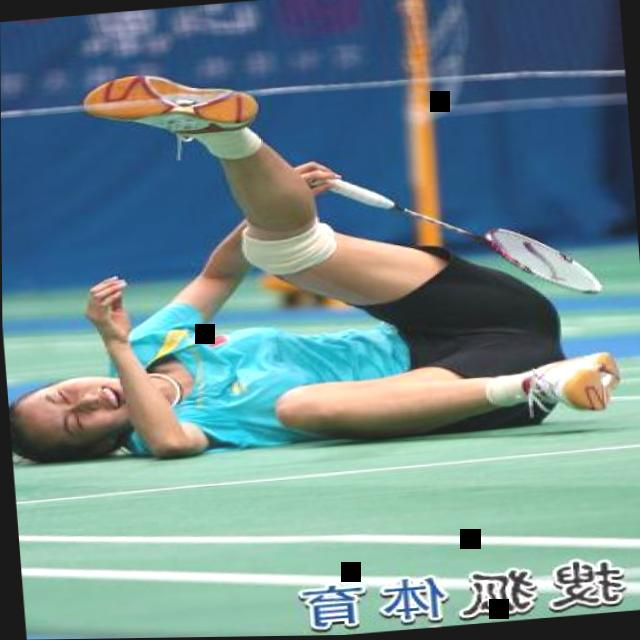Fall-Detected: (0, 34, 632, 476)
